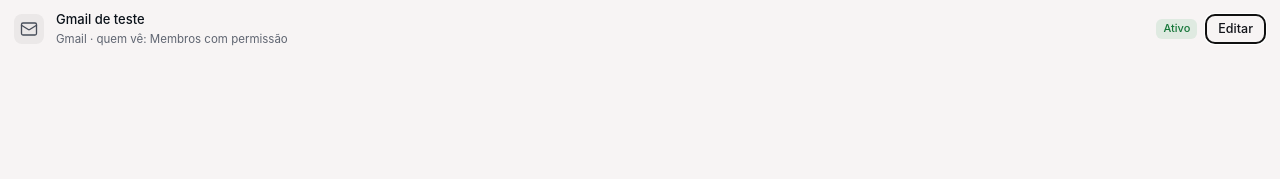
it: edição de canal em linha › abre pelo teclado, salva só o nome e devolve foco ao acionador
The image size is (1280, 179).
Press Enter
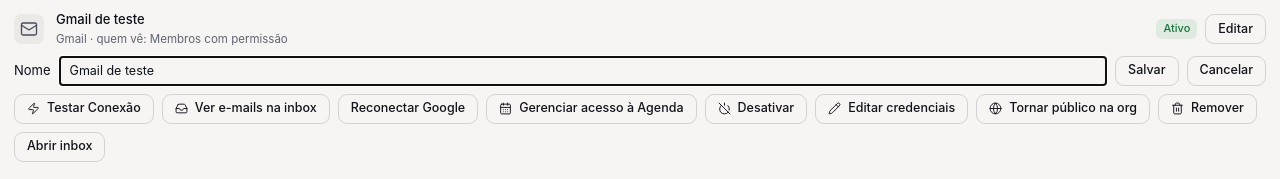
Expected: the button "Editar" is expanded, 1205,14 -> 1266,44
Replace the text in the field labelled "Nome" with "  Novo canal  " at (583, 70), box 59,56 -> 1107,86
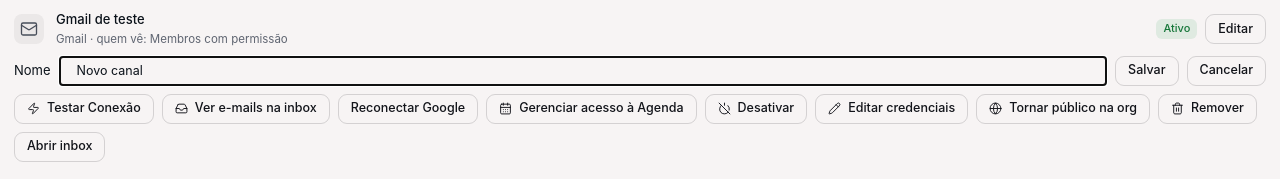
Click the button "Salvar" at (1147, 70), box 1115,56 -> 1179,86
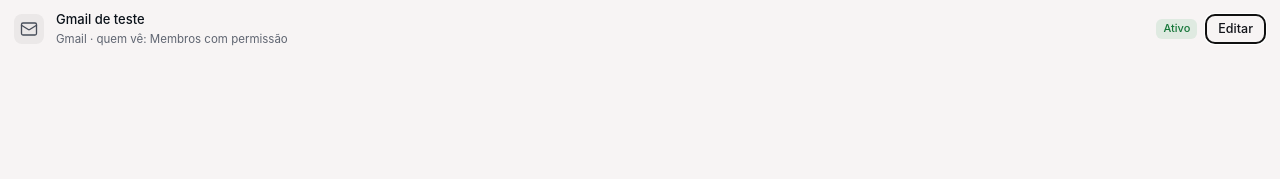
Expected: the button "Editar" is collapsed, 1205,14 -> 1266,44
